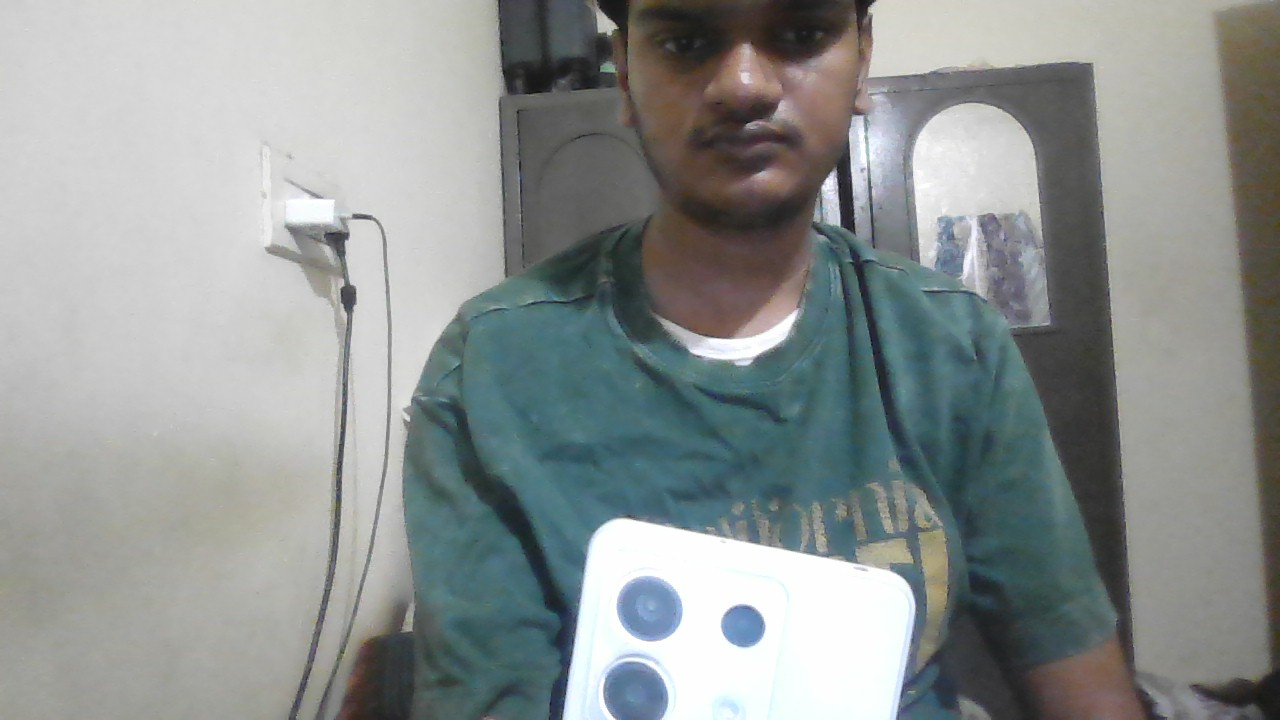phone: (579, 503, 922, 720)
